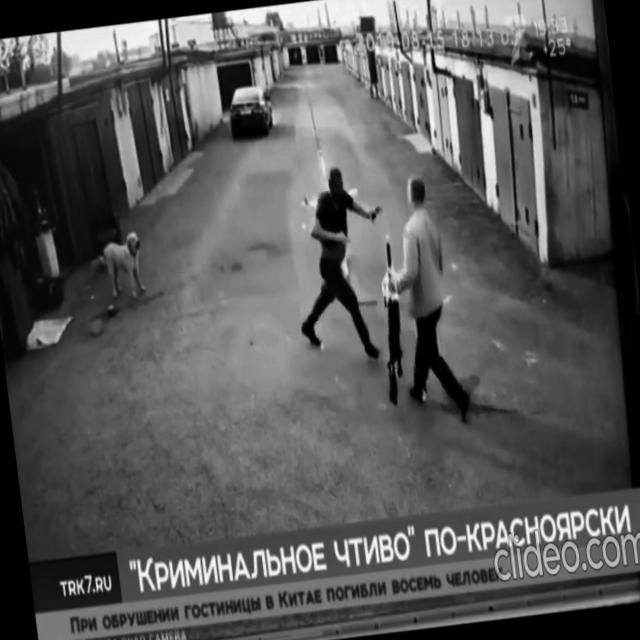gun: (371, 235, 413, 409)
person: (282, 162, 401, 368)
person with a gun: (362, 168, 477, 432)
